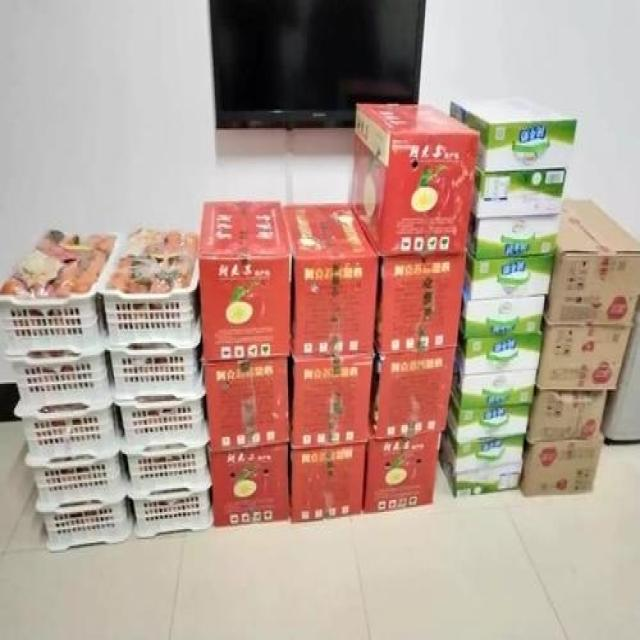box: (348, 104, 479, 259), (283, 203, 379, 358), (200, 200, 289, 362), (544, 198, 640, 326), (451, 94, 575, 174), (374, 254, 466, 353), (202, 358, 289, 452), (370, 348, 456, 442), (291, 353, 372, 447), (535, 316, 635, 389), (209, 442, 289, 526), (365, 433, 445, 514), (289, 444, 369, 522), (520, 432, 604, 498), (470, 169, 567, 218), (526, 389, 607, 445), (439, 444, 524, 497), (466, 212, 559, 259), (447, 394, 531, 444), (463, 254, 556, 299), (458, 292, 545, 338), (442, 427, 524, 474), (451, 367, 539, 410), (454, 333, 543, 374)
